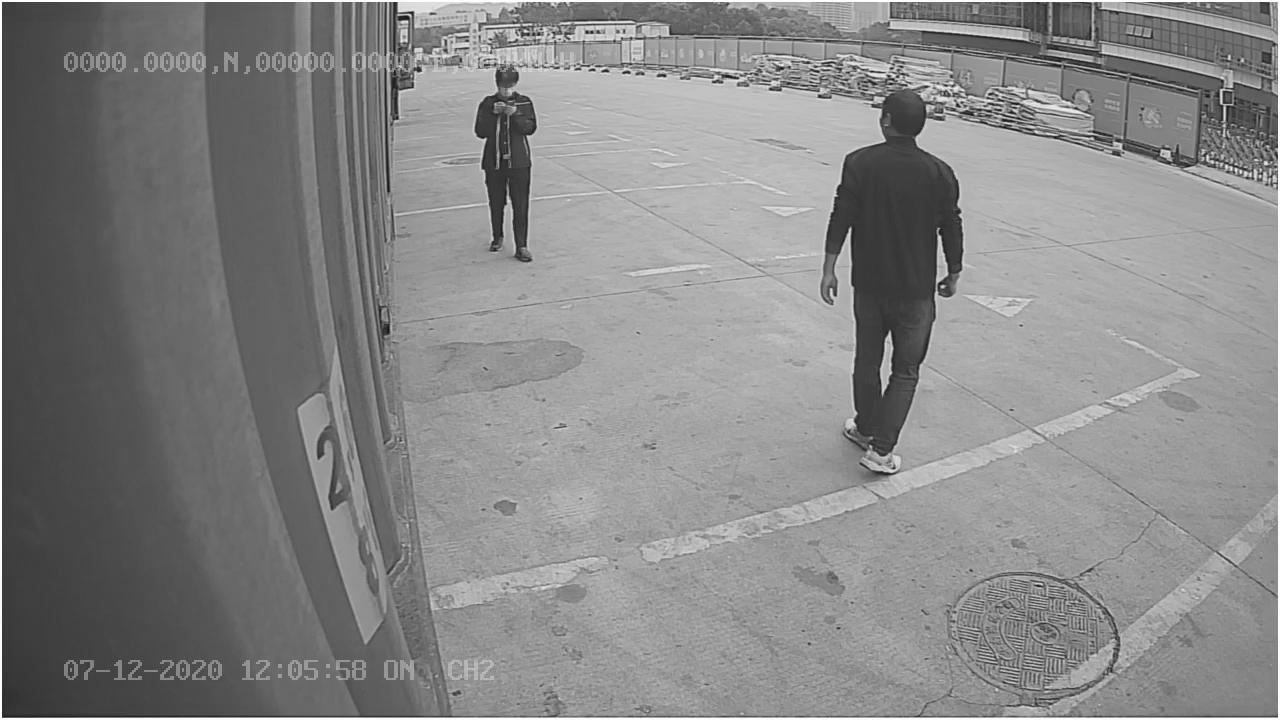person: (819, 89, 969, 480)
